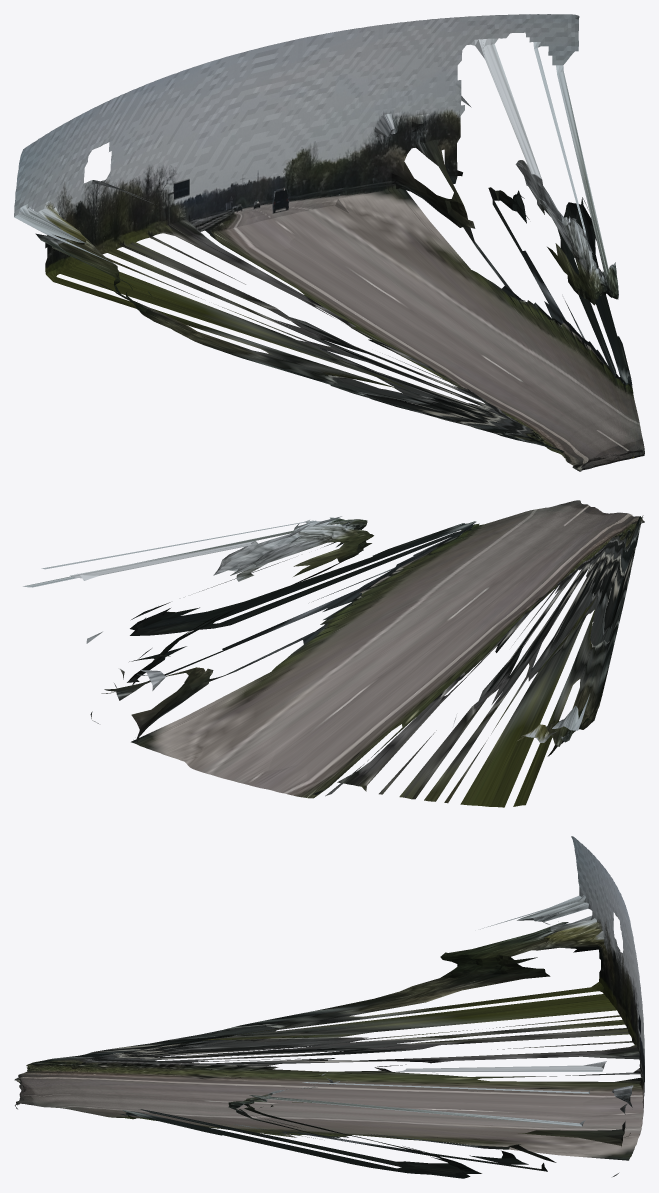
3 views of the same model, one above another, from view 1: azimuth 30°, elevation 25°; view 2: azimuth 150°, elevation 25°; view 3: azimuth 270°, elevation 25° (orthographic). The views are drawn at different scales.
Parts seen in each view (by area): view 1: defaultobject; view 2: defaultobject; view 3: defaultobject.
Part boxes in pixels (x1=…): defaultobject: x1=14, y1=14, x2=644, y2=471; defaultobject: x1=23, y1=500, x2=644, y2=807; defaultobject: x1=14, y1=836, x2=644, y2=1178.
Bounding box in the file's own units: 40.94 × 12.67 × 44.48.
1 material, 1 textured.
